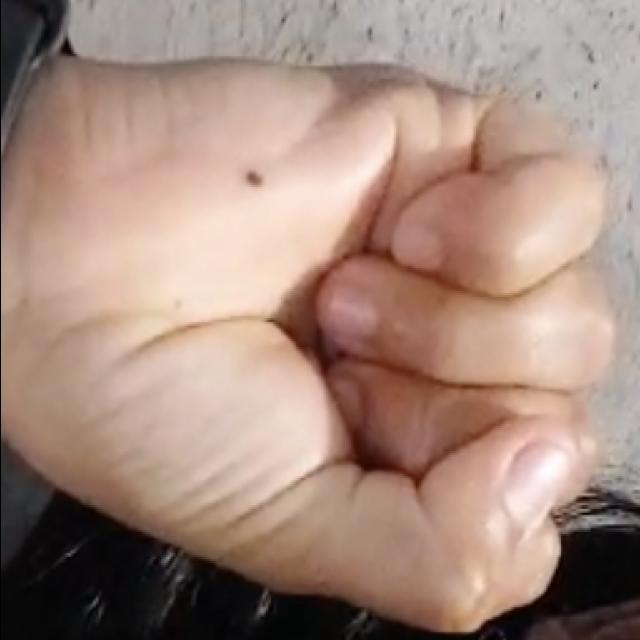S: (15, 33, 618, 637)
